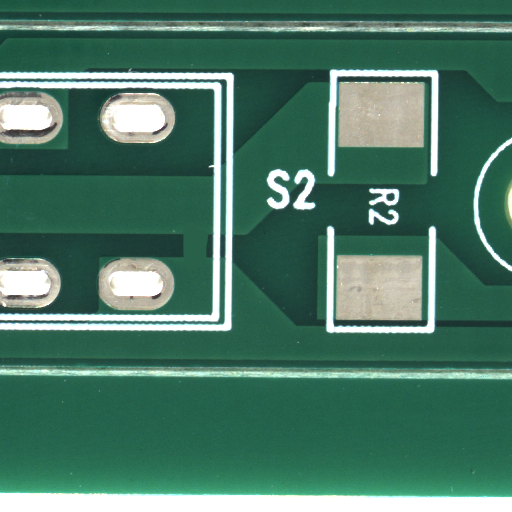Short: (192, 245, 232, 293)
